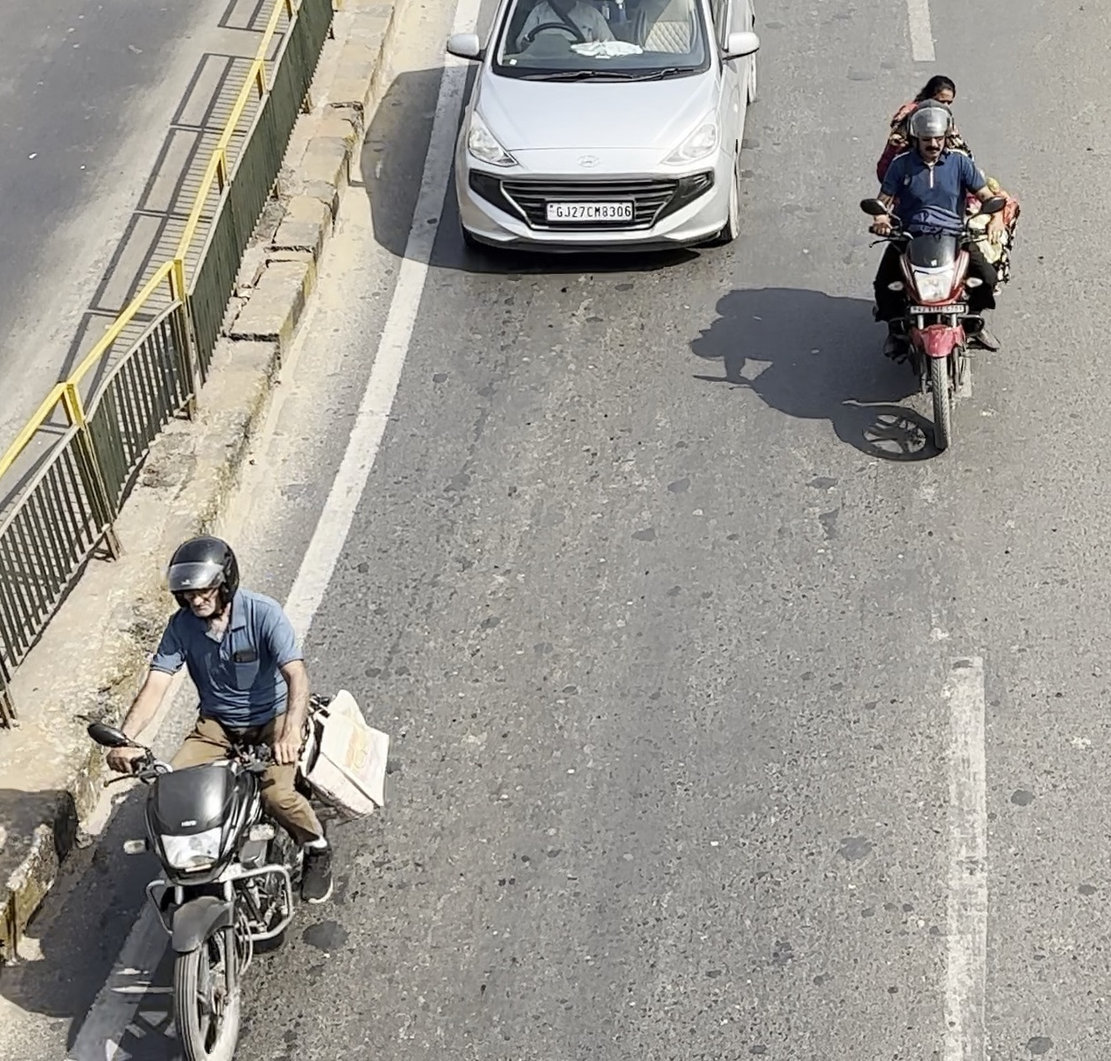BikeWithRider: (62, 522, 435, 1058), (849, 65, 1045, 465)
Helmet: (152, 534, 242, 621), (902, 99, 955, 170)
NoHelmet: (909, 65, 978, 124)
